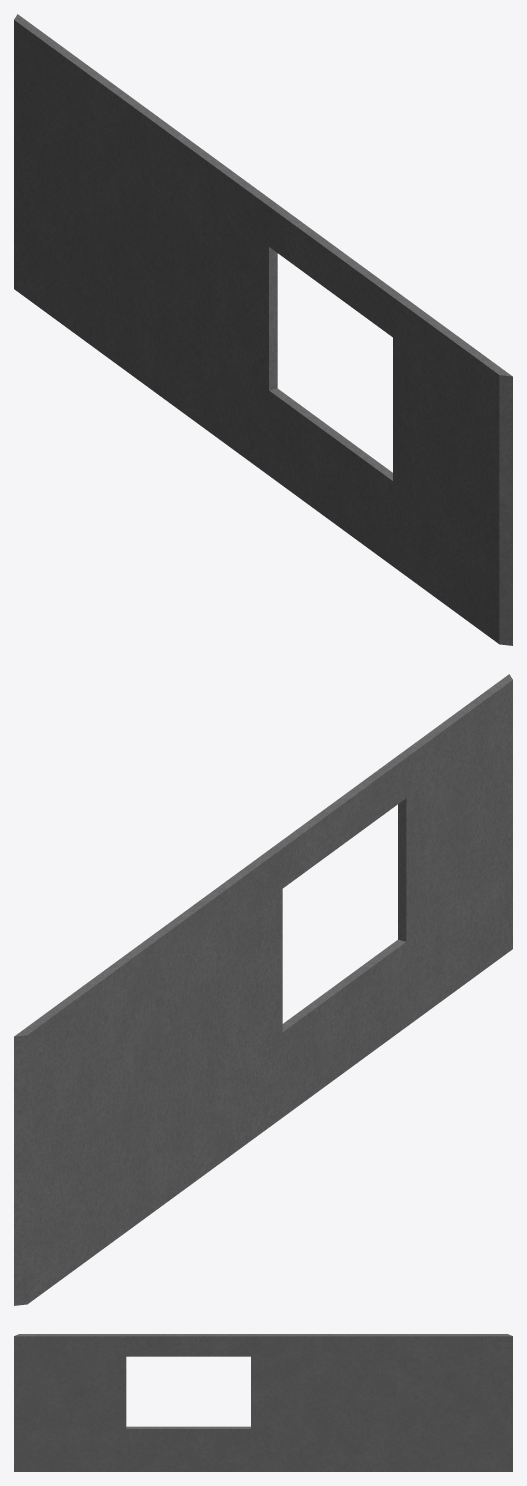
The model's file is BackWall.glb.
The picture shows the model from 3 angles, top to bottom: view 1: azimuth 30°, elevation 25°; view 2: azimuth 150°, elevation 25°; view 3: azimuth 270°, elevation 25°; orthographic projection. The views are drawn at different scales.
Parts seen in each view (by area): view 1: Back Wall; view 2: Back Wall; view 3: Back Wall.
Part boxes in pixels (left/top/right/bottom): Back Wall: left=14, top=14, right=512, bottom=645; Back Wall: left=14, top=674, right=512, bottom=1305; Back Wall: left=14, top=1334, right=512, bottom=1471.
Size of the model in its own units: 0.2 by 6 by 20.
1 material, 1 textured.
